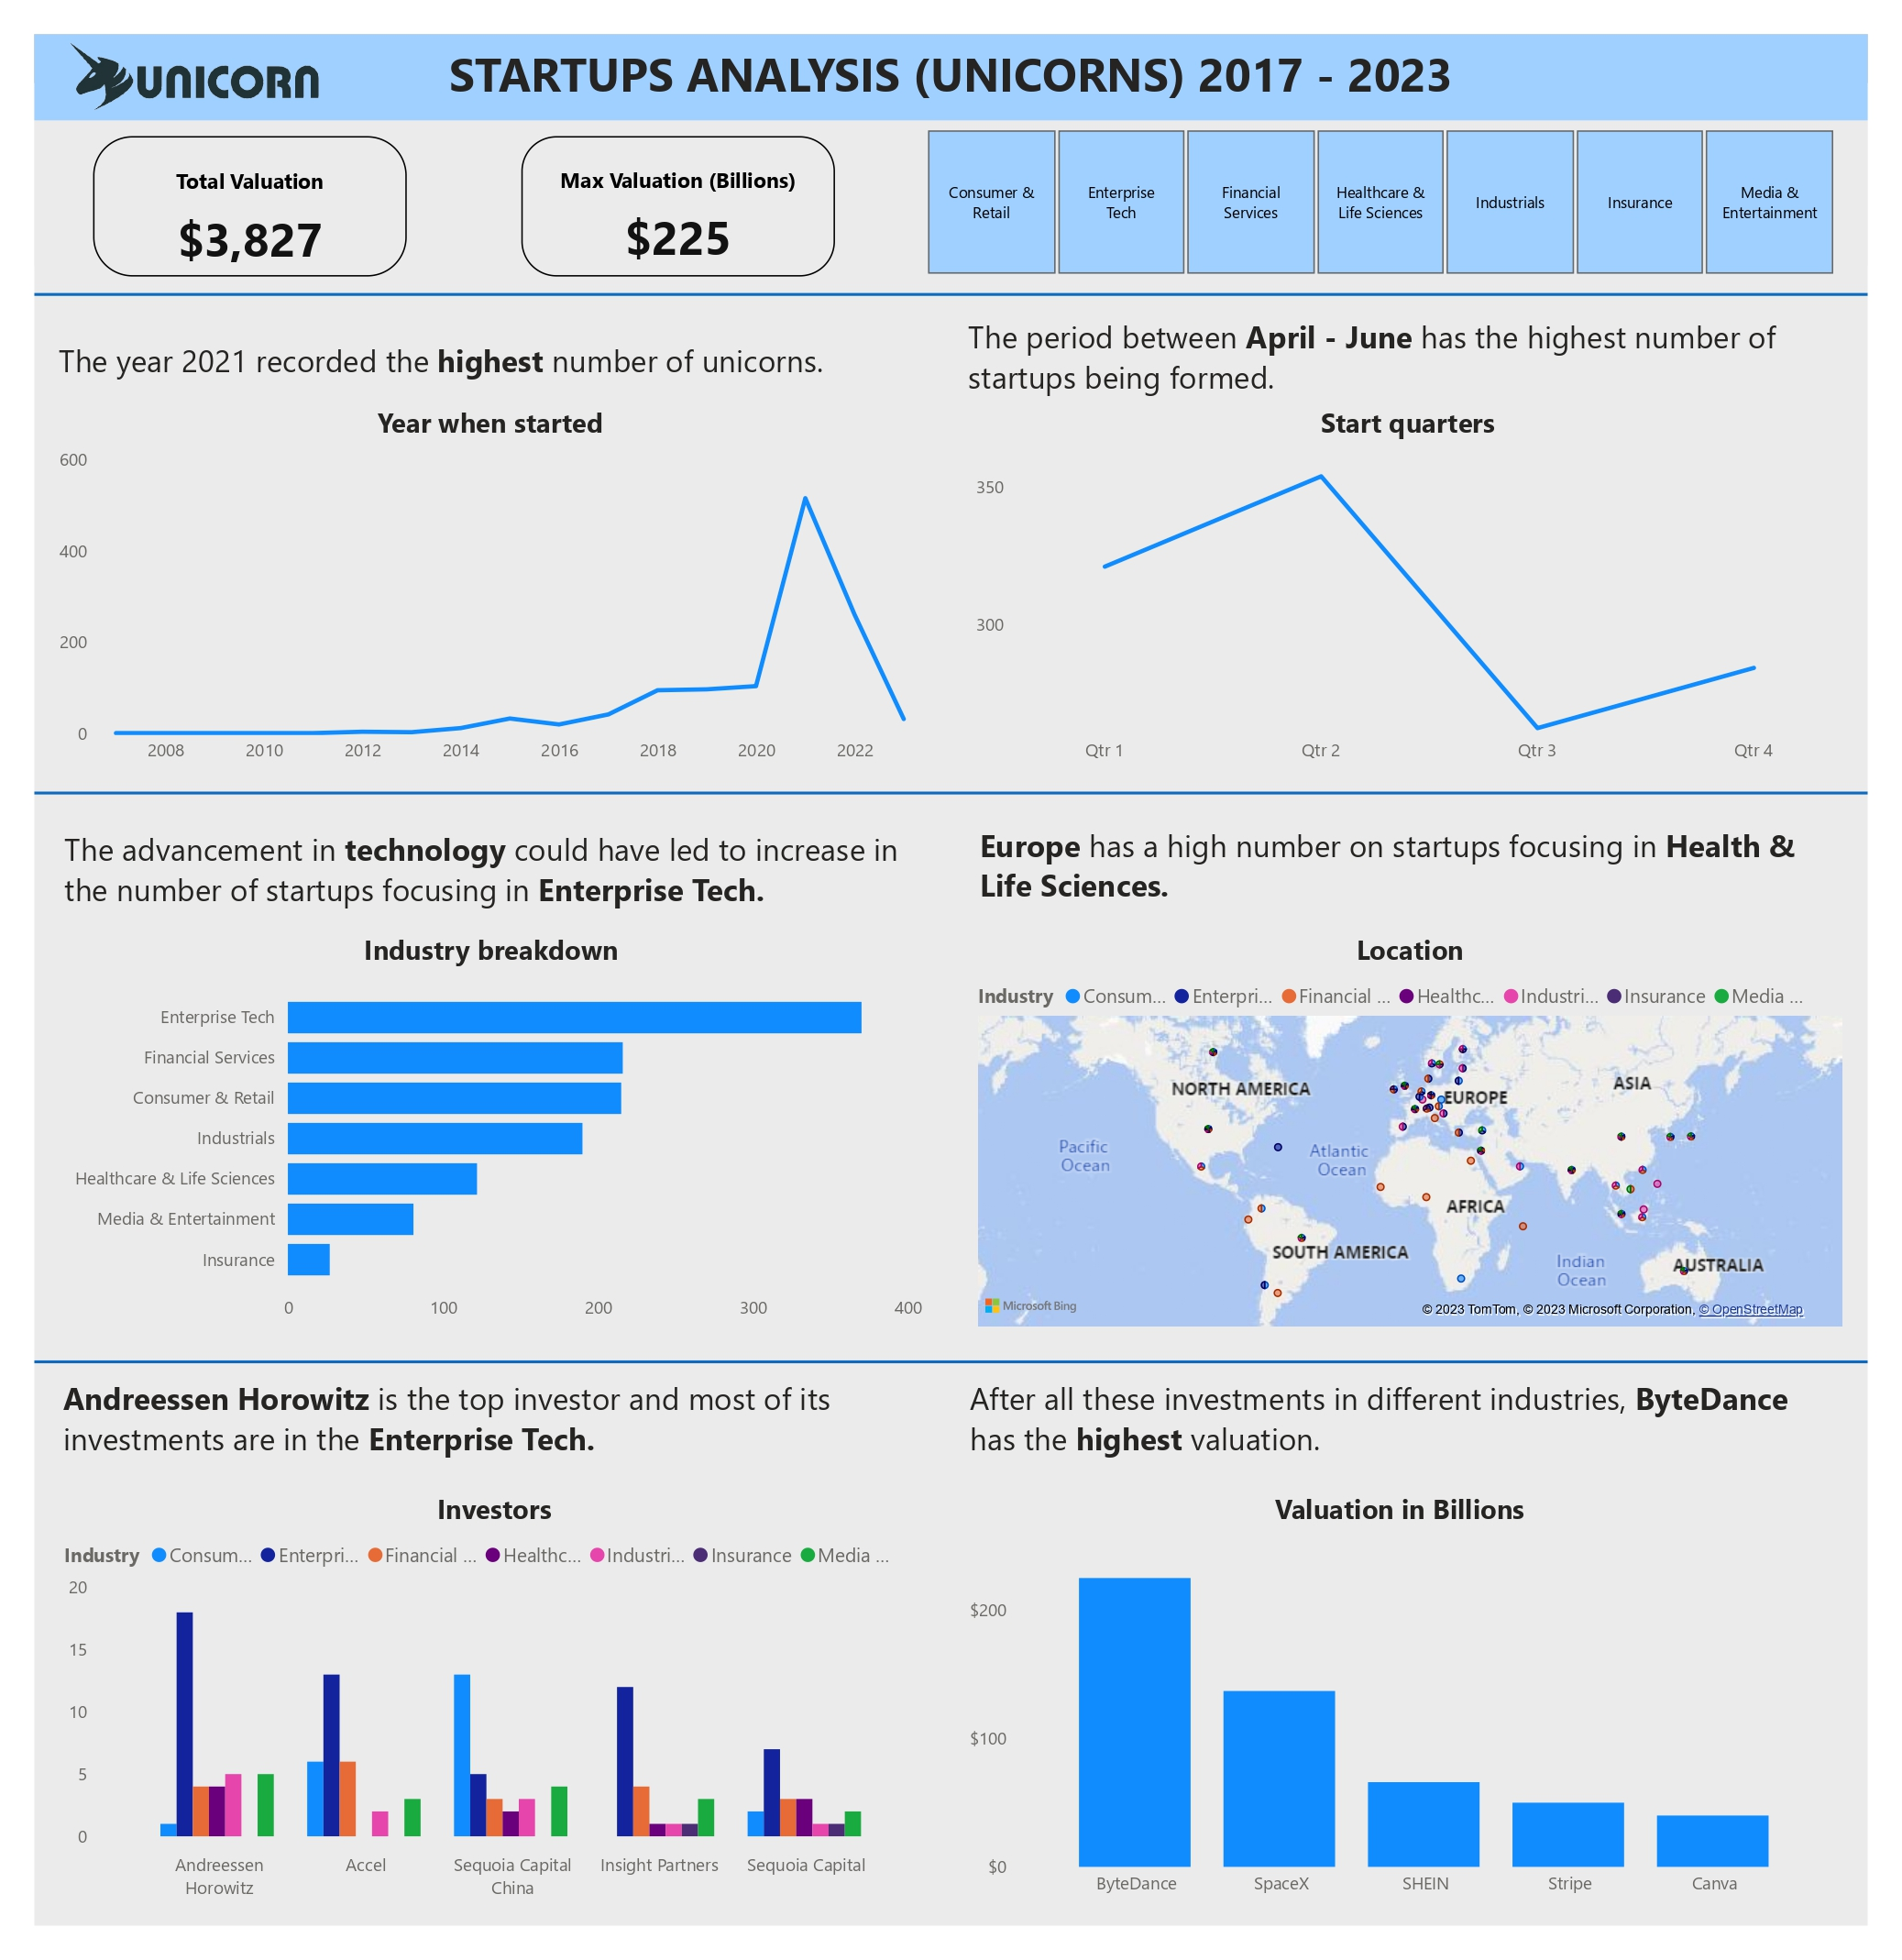

Layout of this report page (visuals, bound fields, positions):
{"tool":"powerbi","page":{"name":"Dashboard 2","canvas":[1280,1320],"ordinal":8},"visuals":[{"type":"textbox","box":[0,0,1280.2,60.5],"z":0},{"type":"clusteredColumnChart","title":"Investors","fields":{"Category":["unicorn_startup_companies.Investor_1.1"],"Y":["unicorn_startup_companies.Investor_1.1"],"Series":["unicorn_startup_companies.Industry"]},"box":[15.5,1016.4,610.3,292.2],"z":1000},{"type":"clusteredColumnChart","title":"Valuation in Billions","fields":{"Y":["unicorn_startup_companies.Valuation_B"],"Category":["unicorn_startup_companies.Company"]},"box":[648.3,1016.4,611.2,292.2],"z":2000},{"type":"lineChart","title":"Year when started","fields":{"Category":["unicorn_startup_companies.Date_Joined.Variation.Date Hierarchy.Year"],"Y":["unicorn_startup_companies.Company"]},"box":[11.9,258.2,613.4,259.7],"z":3000},{"type":"lineChart","title":"Start quarters","fields":{"Category":["unicorn_startup_companies.Date_Joined.Variation.Date Hierarchy.Quarter"],"Y":["unicorn_startup_companies.Company"]},"box":[652.2,258.2,613.4,259.7],"z":4000},{"type":"barChart","title":"Industry breakdown","fields":{"Y":["unicorn_startup_companies.Industry"],"Category":["unicorn_startup_companies.Industry"]},"box":[12.9,625.9,612.1,281],"z":5000},{"type":"map","title":"Location","fields":{"Category":["unicorn_startup_companies.Country"],"Series":["unicorn_startup_companies.Industry"]},"box":[654.3,625.9,612.9,281],"z":6000},{"type":"cardVisual","fields":{"Data":["unicorn_startup_companies.Valuation_B"]},"box":[335.1,66,229.8,108.5],"z":7000},{"type":"textbox","box":[12.2,208.1,614.9,50],"z":8000},{"type":"textbox","box":[647.3,190.5,620.3,67.6],"z":9000},{"type":"textbox","box":[15.5,549.1,610.3,69],"z":10000},{"type":"textbox","box":[655.3,545.7,611.7,75.5],"z":11000},{"type":"textbox","box":[14.7,931.9,612.1,75],"z":12000},{"type":"textbox","box":[647.9,931.9,611.7,74.5],"z":13000},{"type":"image","box":[0,0,227.2,60.5],"z":14000},{"type":"shape","box":[0,509.8,1280.4,39.1],"z":15000},{"type":"shape","box":[0,161.7,1279.8,39.4],"z":16000},{"type":"shape","box":[0,906.9,1280.2,38.8],"z":18000},{"type":"slicer","fields":{"Values":["unicorn_startup_companies.Industry"]},"box":[597.5,60.5,682.7,113.6],"z":19000},{"type":"cardVisual","fields":{"Data":["unicorn_startup_companies.Valuation_B"]},"box":[36.2,66,229.8,108.5],"z":20000}]}

Visuals, with their boxes in screenshot pixels (x1, y1, x2, y2), scaled from the page's 1280x1320 canvas onto the 1902x1960 screenshot:
textbox: (left=0, top=0, right=1901, bottom=90)
"Investors" clusteredColumnChart: (left=23, top=1509, right=929, bottom=1943)
"Valuation in Billions" clusteredColumnChart: (left=963, top=1509, right=1872, bottom=1943)
"Year when started" lineChart: (left=17, top=383, right=929, bottom=769)
"Start quarters" lineChart: (left=969, top=383, right=1881, bottom=769)
"Industry breakdown" barChart: (left=19, top=930, right=929, bottom=1347)
"Location" map: (left=973, top=930, right=1883, bottom=1347)
cardVisual - unicorn_startup_companies.Valuation_B: (left=498, top=98, right=840, bottom=259)
textbox: (left=18, top=309, right=932, bottom=383)
textbox: (left=962, top=283, right=1884, bottom=383)
textbox: (left=23, top=815, right=929, bottom=918)
textbox: (left=973, top=810, right=1883, bottom=922)
textbox: (left=22, top=1383, right=931, bottom=1495)
textbox: (left=962, top=1383, right=1872, bottom=1494)
image: (left=0, top=0, right=337, bottom=90)
shape: (left=0, top=757, right=1901, bottom=815)
shape: (left=0, top=240, right=1901, bottom=299)
shape: (left=0, top=1347, right=1901, bottom=1404)
slicer - unicorn_startup_companies.Industry: (left=888, top=90, right=1901, bottom=259)
cardVisual - unicorn_startup_companies.Valuation_B: (left=54, top=98, right=395, bottom=259)
